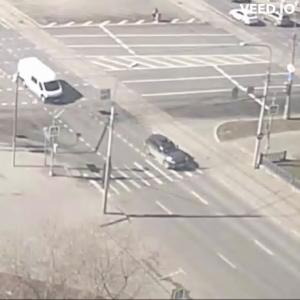car: (18, 59, 66, 108), (138, 135, 190, 171)
